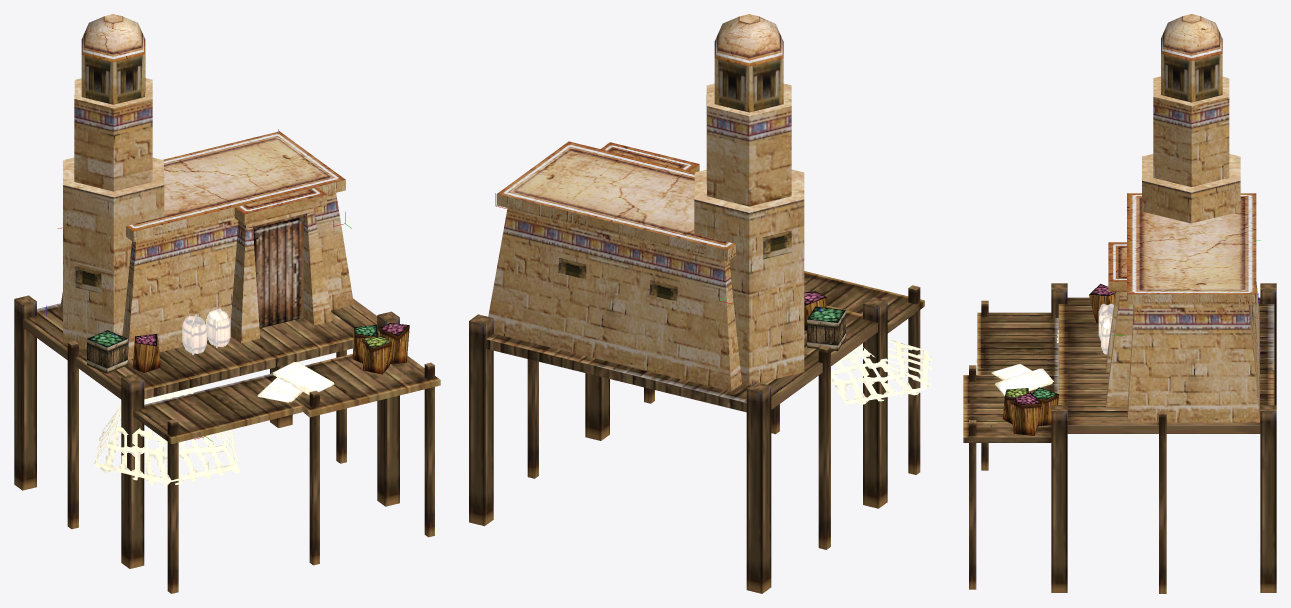
File: age1.glb
3 views of the same model, side by side, from view 1: azimuth 30°, elevation 25°; view 2: azimuth 150°, elevation 25°; view 3: azimuth 270°, elevation 25° (orthographic). The views are drawn at different scales.
Parts seen in each view (by area): view 1: building e tradedock age2Model; view 2: building e tradedock age2Model; view 3: building e tradedock age2Model.
Part boxes in pixels (box(x1,y1,x2,y2)): building e tradedock age2Model: box(14, 14, 440, 593); building e tradedock age2Model: box(469, 14, 932, 593); building e tradedock age2Model: box(963, 14, 1276, 593).
Size of the model in its own units: 6.72 by 10.02 by 6.02.
7 materials, 6 textured.
